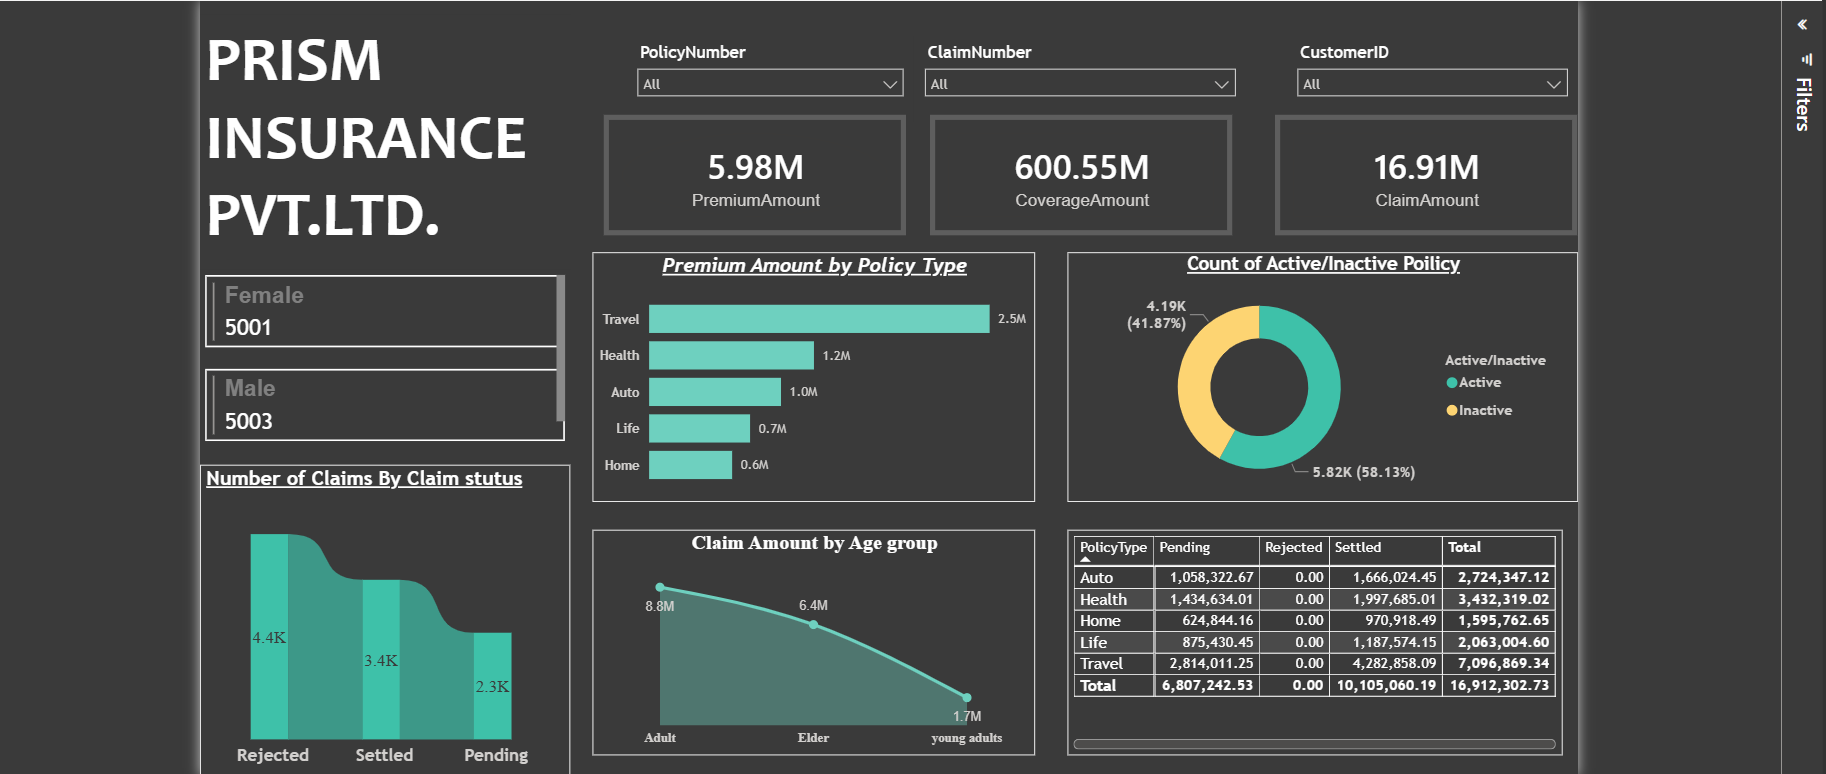

What the dashboard file says about the page in this screenshot:
{"tool":"powerbi","page":{"name":"Page 1","canvas":[1280,720],"ordinal":0},"visuals":[{"type":"slicer","fields":{"Values":["InsuranceData.PolicyNumber"]},"box":[395.7,32.6,267.8,79.6],"z":0},{"type":"slicer","fields":{"Values":["InsuranceData.CustomerID"]},"box":[1008.6,32.6,271.4,94.1],"z":1000},{"type":"slicer","fields":{"Values":["InsuranceData.ClaimNumber"]},"box":[663.5,32.6,308.8,79.6],"z":2000},{"type":"textbox","box":[0,13.3,343.8,236.5],"z":3000},{"type":"cardVisual","fields":{"Data":["Sum(InsuranceData.PremiumAmount)"]},"box":[374.9,105.4,281.1,112.2],"z":4000},{"type":"cardVisual","fields":{"Data":["Sum(InsuranceData.CoverageAmount)"]},"box":[678,106.2,281.1,112.2],"z":5000},{"type":"cardVisual","fields":{"Data":["Sum(InsuranceData.ClaimAmount)"]},"box":[998.9,105.7,281.1,112.2],"z":6000},{"type":"multiRowCard","fields":{"Values":["InsuranceData.Gender","CountNonNull(InsuranceData.Gender)"]},"box":[0,249.7,343.8,164.1],"z":7000},{"type":"ribbonChart","title":"Number of Claims By Claim stutus","fields":{"Category":["InsuranceData.ClaimStatus"],"Y":["CountNonNull(InsuranceData.ClaimNumber)"]},"box":[0,430.7,343.8,289.5],"z":8000},{"type":"barChart","title":"Premium Amount by Policy Type","fields":{"Category":["InsuranceData.PolicyType"],"Y":["Sum(InsuranceData.PremiumAmount)"]},"box":[364.3,232.8,411.4,231.6],"z":9000},{"type":"lineChart","title":"Claim Amount by Age group","fields":{"Category":["InsuranceData.Age group"],"Y":["Sum(InsuranceData.ClaimAmount)"]},"box":[364.3,491,411.4,209.9],"z":10000},{"type":"donutChart","title":"Count of Active/Inactive  Poilicy","fields":{"Category":["InsuranceData.Active/Inactive"],"Y":["CountNonNull(InsuranceData.Active/Inactive)"]},"box":[805.9,232.8,474.1,231.6],"z":10001},{"type":"pivotTable","fields":{"Columns":["InsuranceData.ClaimStatus"],"Rows":["InsuranceData.PolicyType"],"Values":["Sum(InsuranceData.ClaimAmount)"]},"box":[805.9,491,459.7,209.9],"z":10002}]}

Visuals, with their boxes on the page's 1280x720 design canvas (x1, y1, x2, y2). These are canvas units, not pixel positions in the 1826x774 screenshot, which may show the page scaled, cropped or inside an application window:
slicer - InsuranceData.PolicyNumber: (396,33,664,112)
slicer - InsuranceData.CustomerID: (1009,33,1280,127)
slicer - InsuranceData.ClaimNumber: (664,33,972,112)
textbox: (0,13,344,250)
cardVisual - Sum(InsuranceData.PremiumAmount): (375,105,656,218)
cardVisual - Sum(InsuranceData.CoverageAmount): (678,106,959,218)
cardVisual - Sum(InsuranceData.ClaimAmount): (999,106,1280,218)
multiRowCard - InsuranceData.Gender x CountNonNull(InsuranceData.Gender): (0,250,344,414)
"Number of Claims By Claim stutus" ribbonChart: (0,431,344,720)
"Premium Amount by Policy Type" barChart: (364,233,776,464)
"Claim Amount by Age group" lineChart: (364,491,776,701)
"Count of Active/Inactive  Poilicy" donutChart: (806,233,1280,464)
pivotTable - InsuranceData.ClaimStatus x InsuranceData.PolicyType: (806,491,1266,701)
